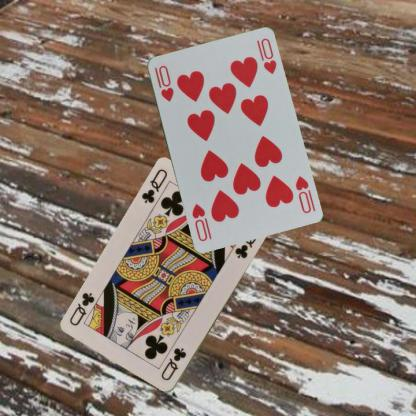10h: (151, 62, 175, 103), (292, 173, 312, 215)
Qc: (139, 167, 168, 205), (158, 346, 188, 382)
